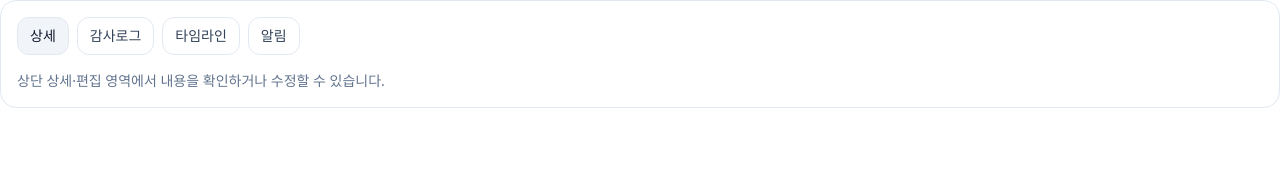
Test: OpsQueueDetailTabs › 감사로그 탭을 렌더링한다
This screenshot has width=1280, height=171.
Click the button "감사로그": (116, 36) [77,17,154,55]
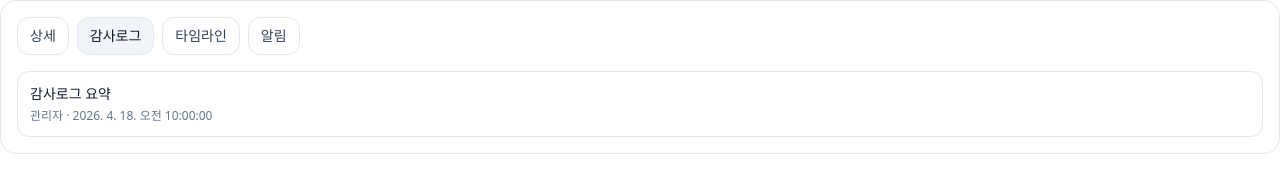
Expected: the text "감사로그 요약" is shown, [30,84,111,103]
